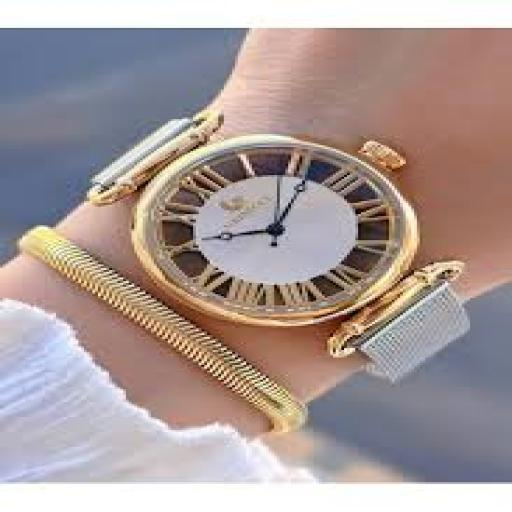KolSaati: (46, 70, 512, 441)
